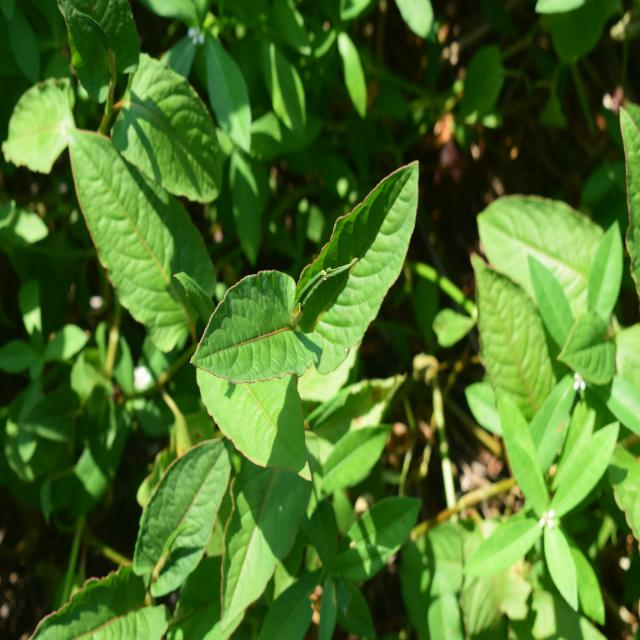Chinese_knotweed: (210, 155, 415, 421), (56, 430, 286, 624)
